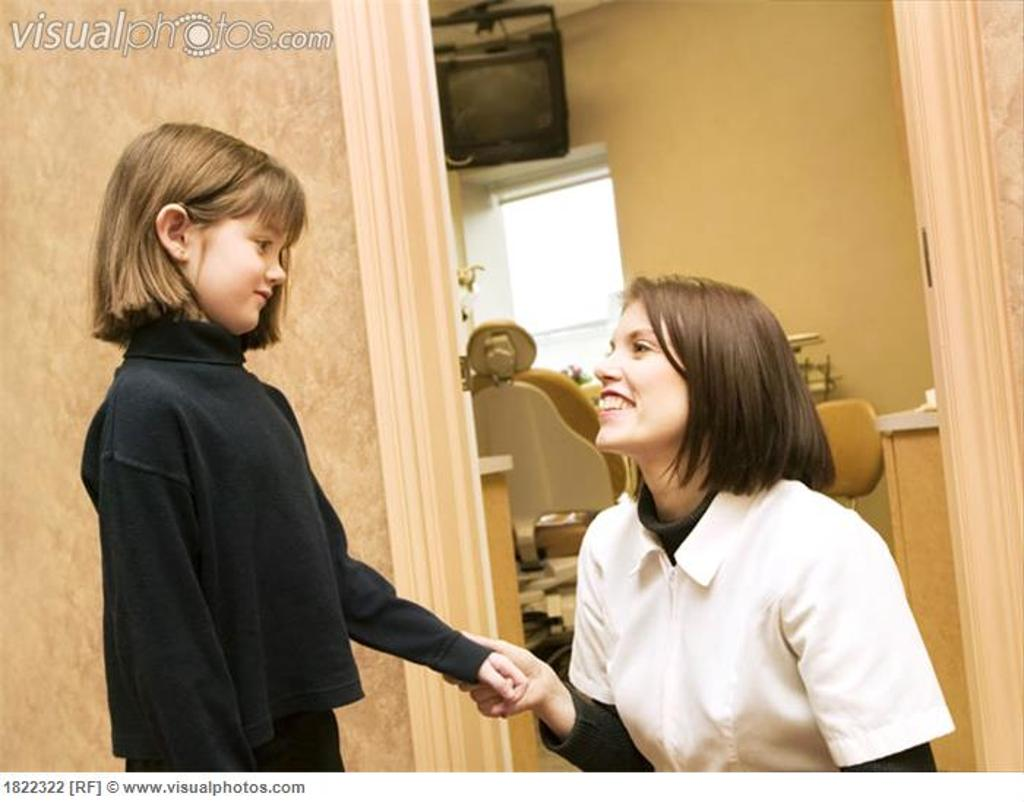face: (594, 294, 702, 446), (190, 178, 286, 328)
